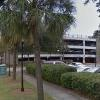Tree: (17, 0, 67, 55)
